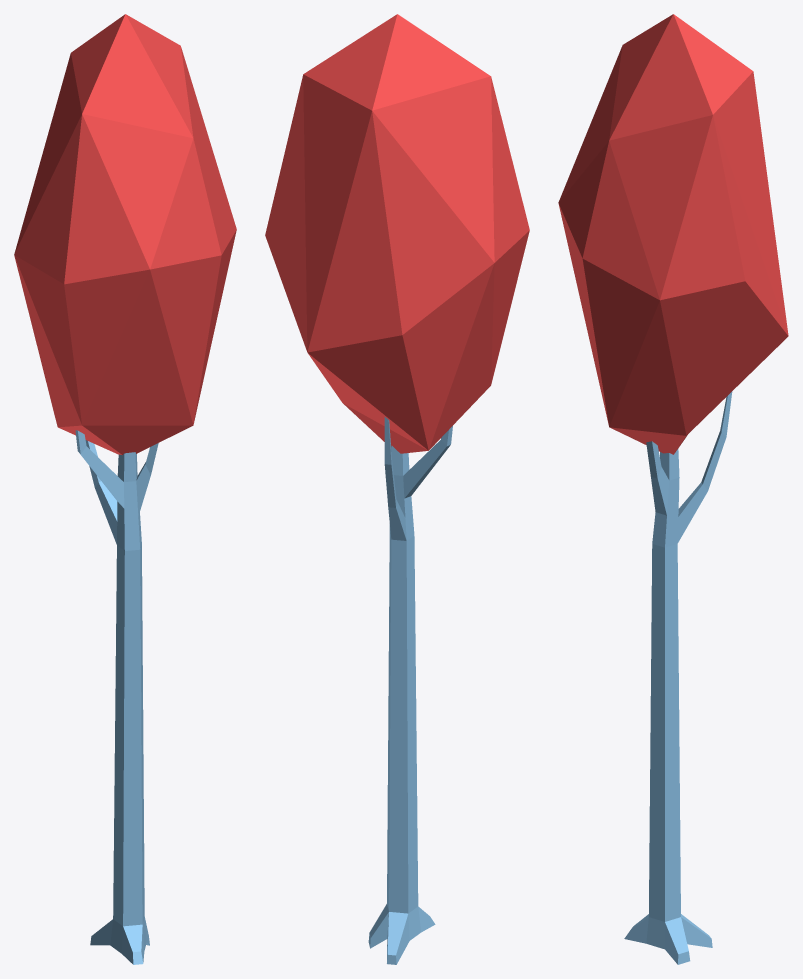
File: tree2.dae
3 renders of one model, left to right at view 1: azimuth 30°, elevation 25°; view 2: azimuth 150°, elevation 25°; view 3: azimuth 270°, elevation 25°, orthographic.
Parts seen in each view (by area): view 1: tree, trunk; view 2: tree, trunk; view 3: tree, trunk.
Part boxes in pixels (box(x1,y1,x2,y2)): tree: box(14, 14, 236, 454); trunk: box(75, 430, 158, 964); tree: box(265, 14, 529, 453); trunk: box(368, 417, 452, 964); tree: box(558, 14, 788, 454); trunk: box(624, 391, 732, 964).
Size of the model in its own units: 1229 by 5282 by 1175.
